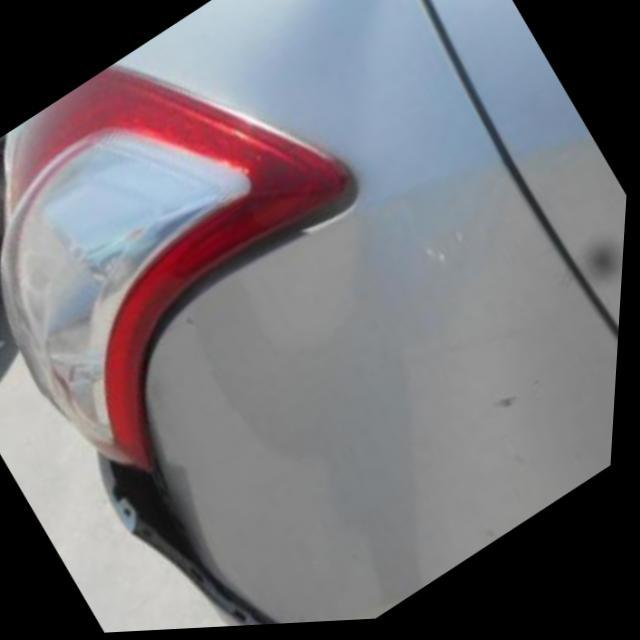dislocated part: (104, 455, 292, 628)
scratch: (579, 243, 627, 294), (493, 392, 530, 417)
